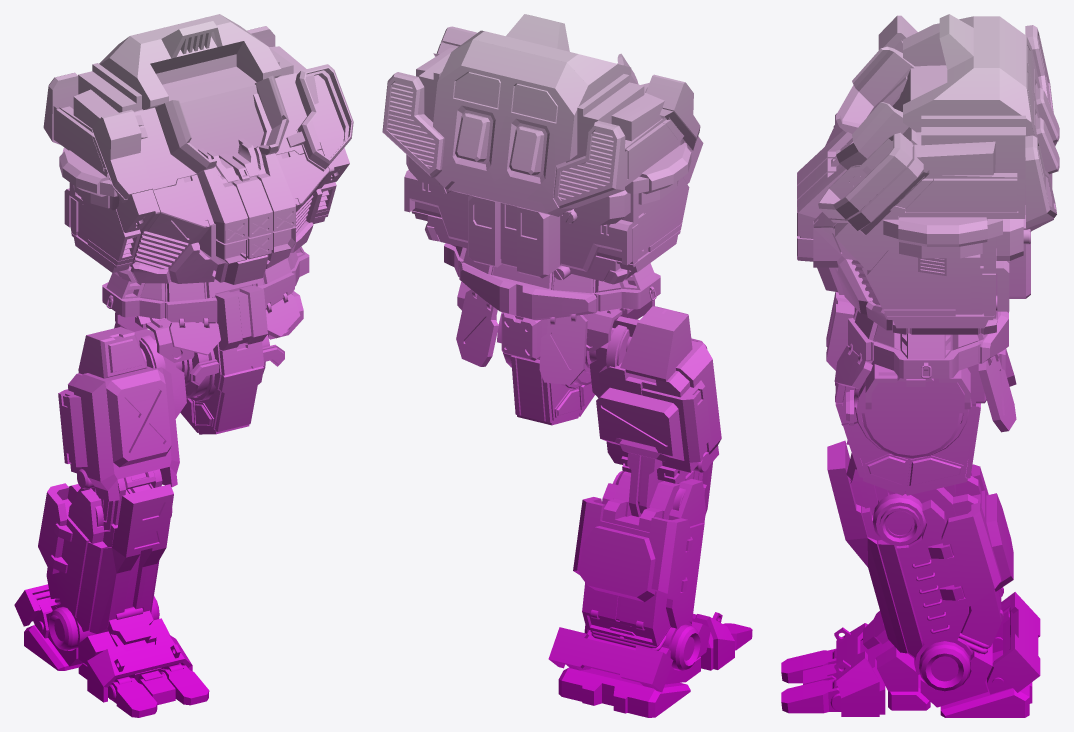
File: chrPrfMech_atlasBase-001(Clone).mesh1.refresh.fbx
The picture shows the model from 3 angles, left to right: view 1: azimuth 30°, elevation 25°; view 2: azimuth 150°, elevation 25°; view 3: azimuth 270°, elevation 25°; orthographic projection. The views are drawn at different scales.
Visible parts, largest first — view 1: mesh_combined_1; view 2: mesh_combined_1; view 3: mesh_combined_1.
Boxes of the visible parts, x1=… form: mesh_combined_1: x1=14, y1=14, x2=353, y2=717; mesh_combined_1: x1=382, y1=14, x2=752, y2=717; mesh_combined_1: x1=781, y1=14, x2=1059, y2=717.
Bounding box in the file's own units: 10.36 × 22.13 × 7.73.
